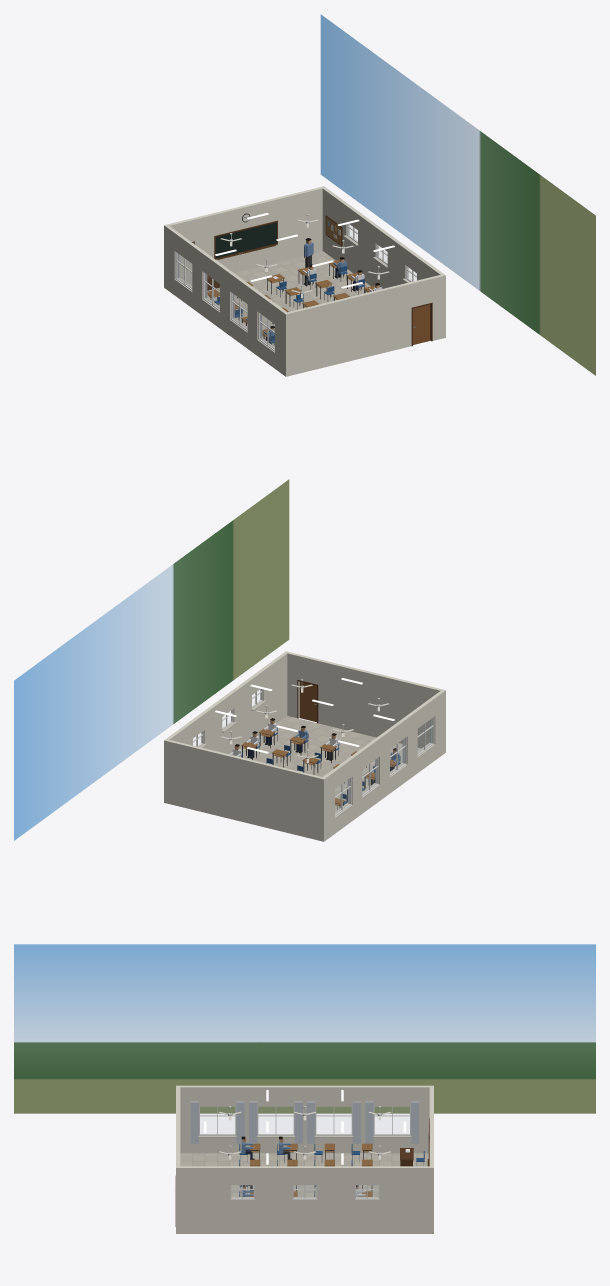
The model's file is examination-hall.glb.
3 views of the same model, one above another, from view 1: azimuth 30°, elevation 25°; view 2: azimuth 150°, elevation 25°; view 3: azimuth 270°, elevation 25° (orthographic). The views are drawn at different scales.
Visible parts, largest first — view 1: BACKDROP_RIGHT, WALL_BACK, WALL_FRONT, WALL_LEFT, WALL_RIGHT, FLOOR, BLACKBOARD, CLASSROOM_DOOR; view 2: BACKDROP_RIGHT, WALL_FRONT, WALL_BACK, WALL_LEFT, WALL_RIGHT, FLOOR, CLASSROOM_DOOR; view 3: BACKDROP_LEFT, WALL_RIGHT, WALL_LEFT, FLOOR, CURTAINS_LEFT, WALL_BACK, WALL_FRONT, WINDOW_01_GLASS, WINDOW_02_GLASS, WINDOW_03_GLASS, WINDOW_04_GLASS.
Part boxes in pixels (x1,y1,x2,y2): BACKDROP_RIGHT: (320, 14, 595, 375); WALL_BACK: (284, 274, 445, 376); WALL_FRONT: (164, 186, 325, 288); WALL_LEFT: (166, 226, 286, 374); WALL_RIGHT: (322, 187, 443, 288); FLOOR: (188, 251, 370, 346); BLACKBOARD: (215, 222, 276, 258); CLASSROOM_DOOR: (413, 304, 430, 344); BACKDROP_RIGHT: (14, 479, 289, 840); WALL_FRONT: (164, 739, 325, 841); WALL_BACK: (284, 651, 445, 753); WALL_LEFT: (323, 691, 443, 839); WALL_RIGHT: (166, 652, 287, 755); FLOOR: (241, 716, 421, 811); CLASSROOM_DOOR: (299, 681, 316, 722); BACKDROP_LEFT: (14, 944, 595, 1113); WALL_RIGHT: (180, 1166, 429, 1233); WALL_LEFT: (180, 1085, 429, 1153); FLOOR: (180, 1153, 428, 1196); CURTAINS_LEFT: (190, 1101, 419, 1143); WALL_BACK: (176, 1085, 180, 1233); WALL_FRONT: (429, 1085, 433, 1233); WINDOW_01_GLASS: (200, 1107, 234, 1133); WINDOW_02_GLASS: (259, 1107, 292, 1133); WINDOW_03_GLASS: (317, 1107, 350, 1133); WINDOW_04_GLASS: (375, 1107, 409, 1133).
Size of the model in its own units: 18 by 9 by 28.
38 materials, 5 textured.
